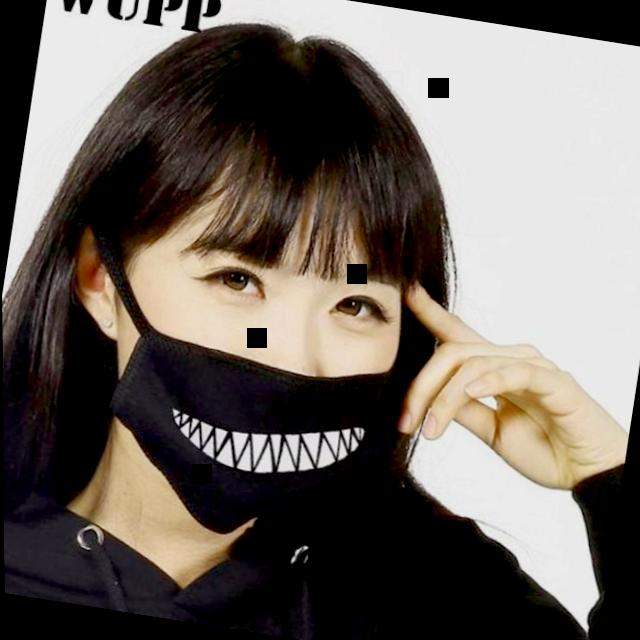Mask: (6, 0, 533, 569)
